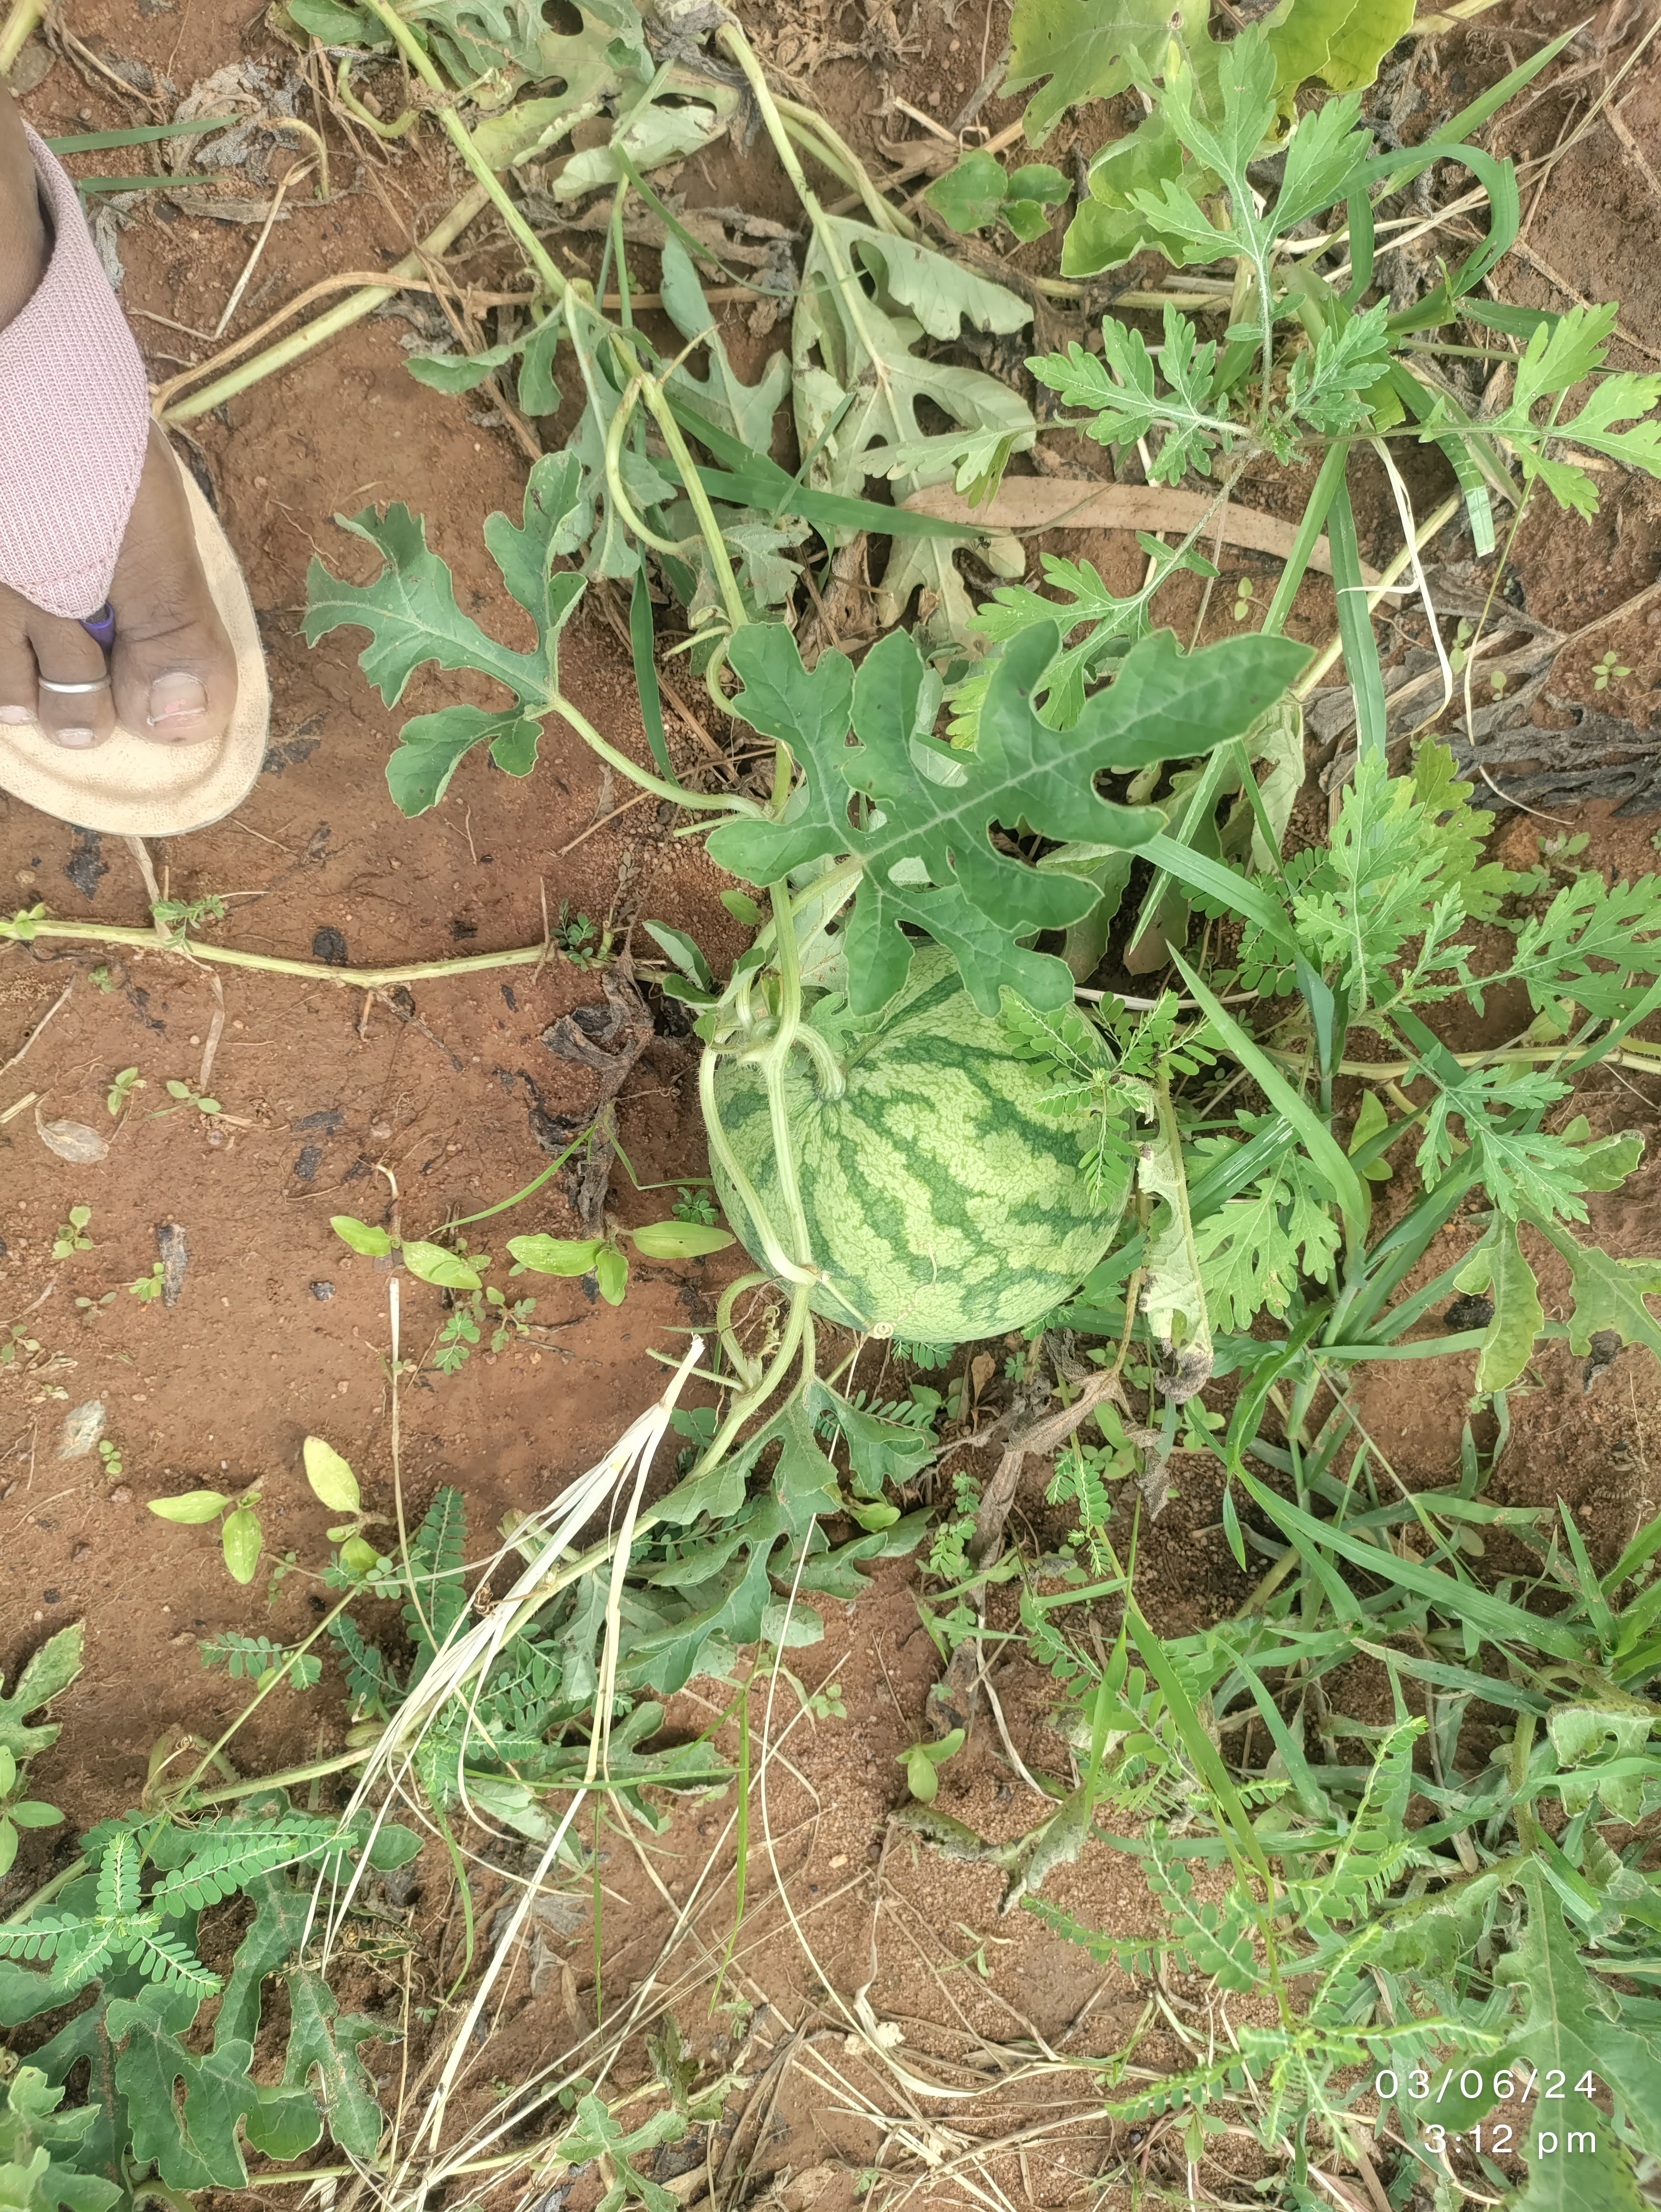good-to-harvest: (689, 876, 1221, 1404)
